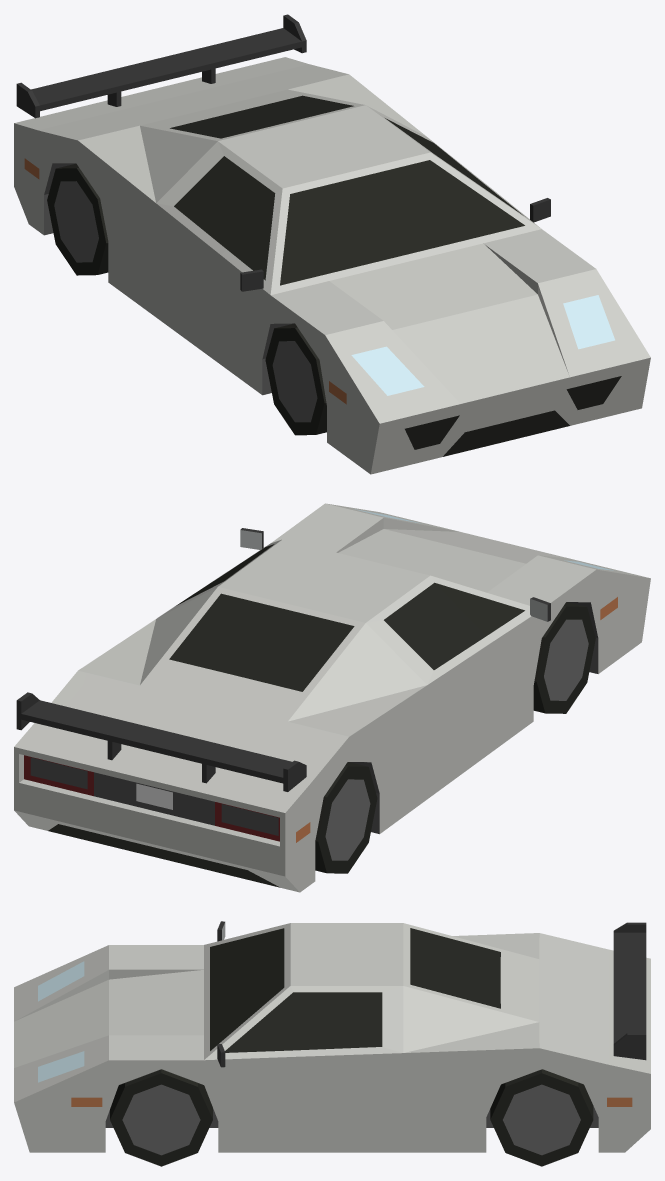
Rendered from Veh_Sports_Car_03_White.glb.
3 renders of one model, top to bottom at view 1: azimuth 30°, elevation 25°; view 2: azimuth 150°, elevation 25°; view 3: azimuth 270°, elevation 25°, orthographic. The views are drawn at different scales.
Parts seen in each view (by area): view 1: Sports_Car_03_White, Wheel_RR, Wheel_FR; view 2: Sports_Car_03_White, Wheel_RR, Wheel_FR; view 3: Sports_Car_03_White, Wheel_RL, Wheel_FL.
Part boxes in pixels (x1,y1,x2,y2): Sports_Car_03_White: (14,14,650,474); Wheel_RR: (47,163,108,275); Wheel_FR: (265,323,326,435); Sports_Car_03_White: (14,503,650,892); Wheel_RR: (315,762,377,873); Wheel_FR: (533,602,595,713); Sports_Car_03_White: (14,921,650,1152); Wheel_RL: (490,1069,593,1166); Wheel_FL: (110,1069,212,1166).
Bounding box in the file's own units: 1.25 × 0.6867 × 2.56.
1 material, 1 textured.
